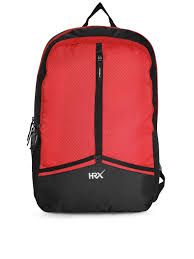backpack: (26, 1, 165, 213)
